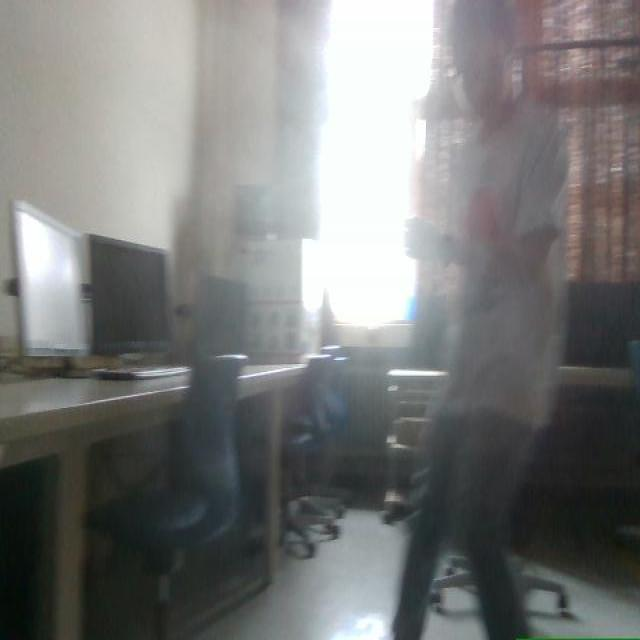humans: (392, 0, 567, 639)
objects: (87, 351, 247, 639), (10, 201, 88, 353), (88, 235, 171, 355)
